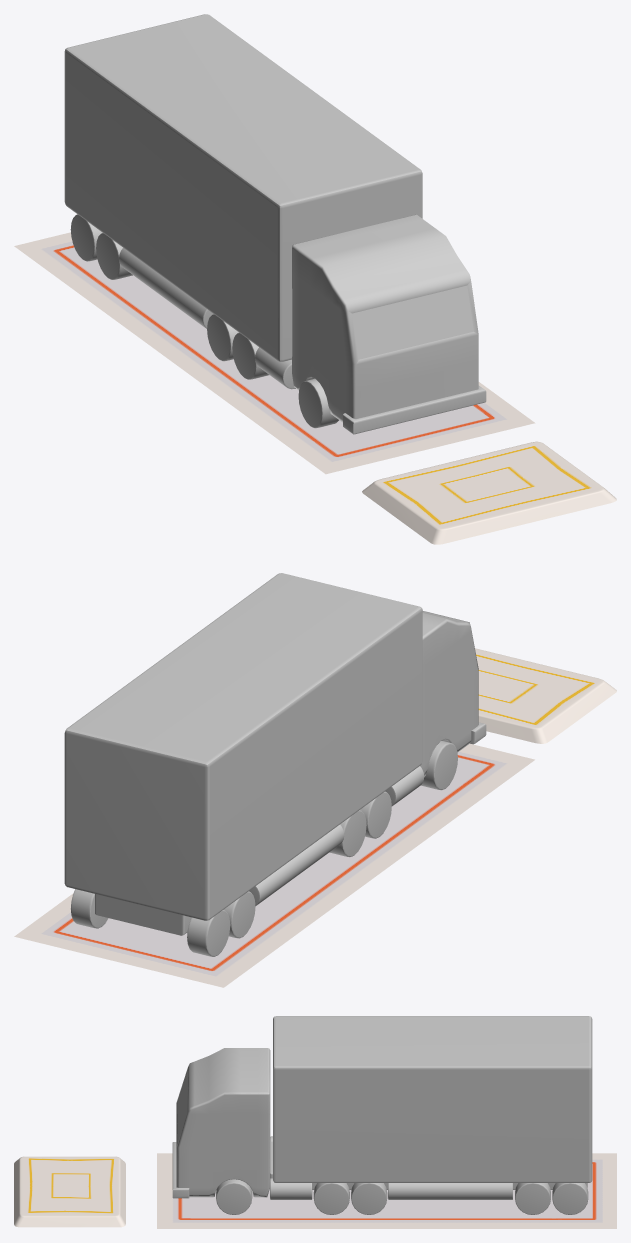
Rendered from Truck Area.fbx.
The picture shows the model from 3 angles, top to bottom: view 1: azimuth 30°, elevation 25°; view 2: azimuth 150°, elevation 25°; view 3: azimuth 270°, elevation 25°; orthographic projection. The views are drawn at different scales.
Visible parts, largest first — view 1: Chember, Driver_Seat, Parking_Slot, Loading_Area, Pipe_R, Front_Wheel_R, Wheel_07, Wheel_08, Wheel_06, Wheel_05; view 2: Chember, Parking_Slot, Door_R, Door_L, Loading_Area, Driver_Seat, Pipe_R, Number_Plate, Wheel_08, Front_Wheel_R, Wheel_05, Wheel_07 (+2 smaller); view 3: Chember, Parking_Slot, Driver_Seat, Loading_Area, Pipe_L, Front_Wheel_L, Wheel_01, Wheel_04, Wheel_03, Wheel_02, Door_L.
Part boxes in pixels (x1,y1,x2,y2): Chember: [65, 14, 422, 361]; Driver_Seat: [292, 214, 486, 434]; Parking_Slot: [14, 232, 535, 474]; Loading_Area: [362, 441, 616, 544]; Pipe_R: [119, 248, 295, 389]; Front_Wheel_R: [298, 378, 338, 428]; Wheel_07: [96, 233, 132, 279]; Wheel_08: [70, 214, 102, 261]; Wheel_06: [207, 314, 238, 361]; Wheel_05: [232, 332, 268, 379]; Chember: [66, 573, 422, 919]; Parking_Slot: [14, 743, 534, 987]; Door_R: [135, 745, 209, 920]; Door_L: [64, 728, 137, 903]; Loading_Area: [475, 648, 616, 743]; Driver_Seat: [420, 611, 486, 776]; Pipe_R: [249, 766, 424, 905]; Number_Plate: [95, 894, 191, 935]; Wheel_08: [187, 909, 230, 956]; Front_Wheel_R: [421, 741, 457, 790]; Wheel_05: [360, 791, 391, 838]; Wheel_07: [224, 891, 255, 938]; Chember: [273, 1016, 589, 1182]; Parking_Slot: [157, 1153, 616, 1228]; Driver_Seat: [172, 1048, 270, 1198]; Loading_Area: [14, 1156, 125, 1227]; Pipe_L: [270, 1178, 512, 1199]; Front_Wheel_L: [216, 1179, 252, 1214]; Wheel_01: [552, 1183, 588, 1214]; Wheel_04: [313, 1183, 349, 1214]; Wheel_03: [351, 1183, 387, 1214]; Wheel_02: [515, 1183, 550, 1214]; Door_L: [589, 1041, 592, 1182].
Bounding box in the file's own units: 15.94 × 15.06 × 53.77.
